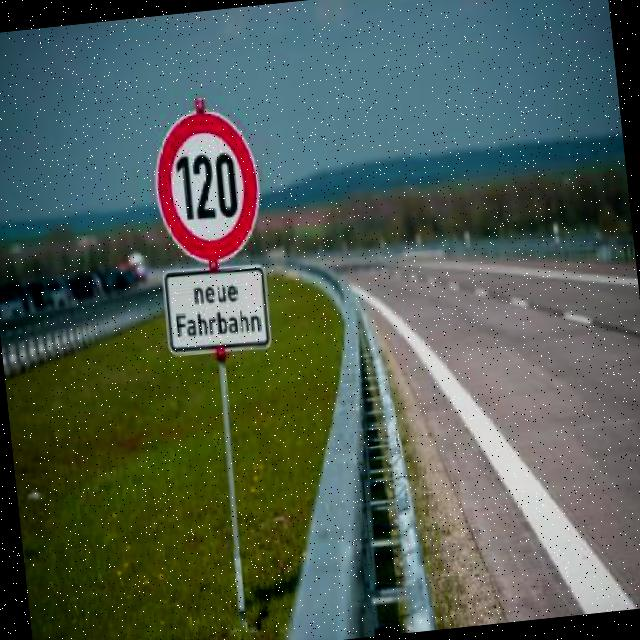Ograniczenie predkosci do 120: (154, 114, 264, 257)
